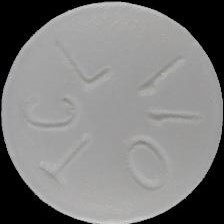0536-3305: (0, 0, 224, 224)
